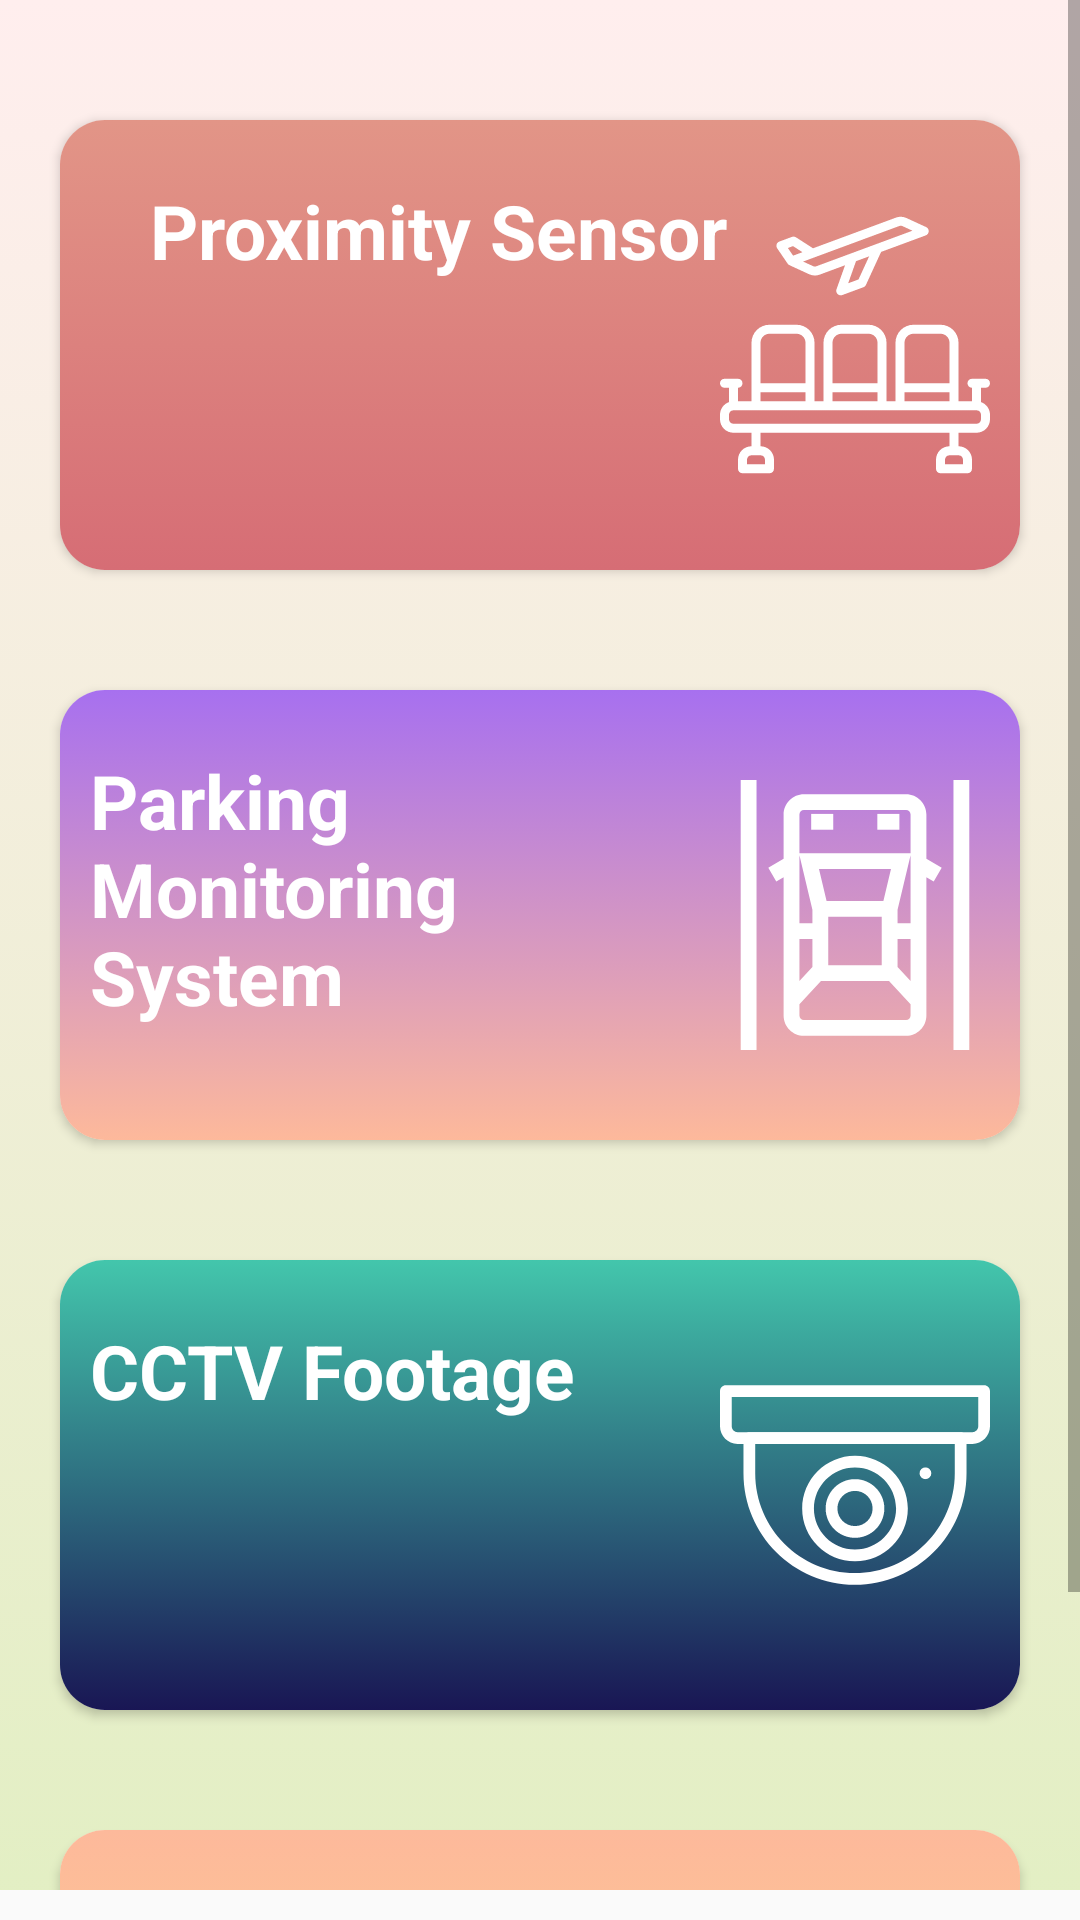

Named icons in this screenshot (1080*1920) and their bounding boxes, Rect(x1, y1, x2, y2):
airport: Rect(720, 210, 990, 474)
